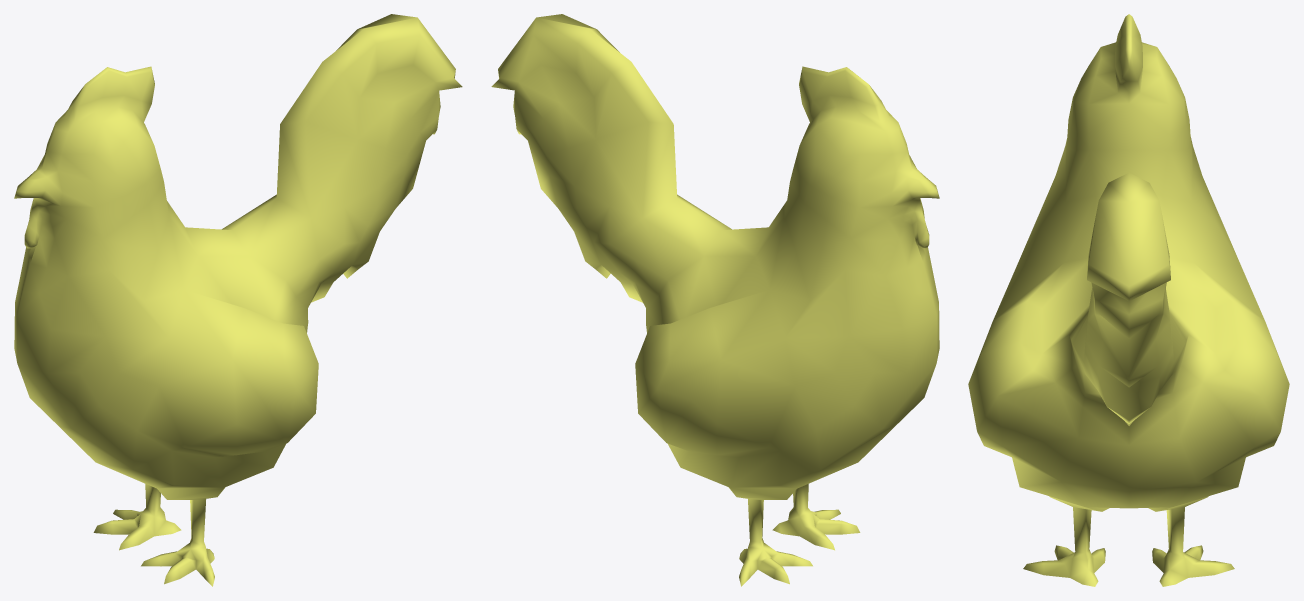
The model's file is chikkenDraco.gltf.
The picture shows the model from 3 angles, left to right: view 1: azimuth 30°, elevation 25°; view 2: azimuth 150°, elevation 25°; view 3: azimuth 270°, elevation 25°; orthographic projection. The views are drawn at different scales.
Parts seen in each view (by area): view 1: Line001_Material #26_0; view 2: Line001_Material #26_0; view 3: Line001_Material #26_0.
Part boxes in pixels (x1=…): Line001_Material #26_0: x1=14, y1=14, x2=462, y2=586; Line001_Material #26_0: x1=491, y1=14, x2=939, y2=586; Line001_Material #26_0: x1=968, y1=14, x2=1289, y2=586.
Bounding box in the file's own units: 2.66 × 2.86 × 1.58.
